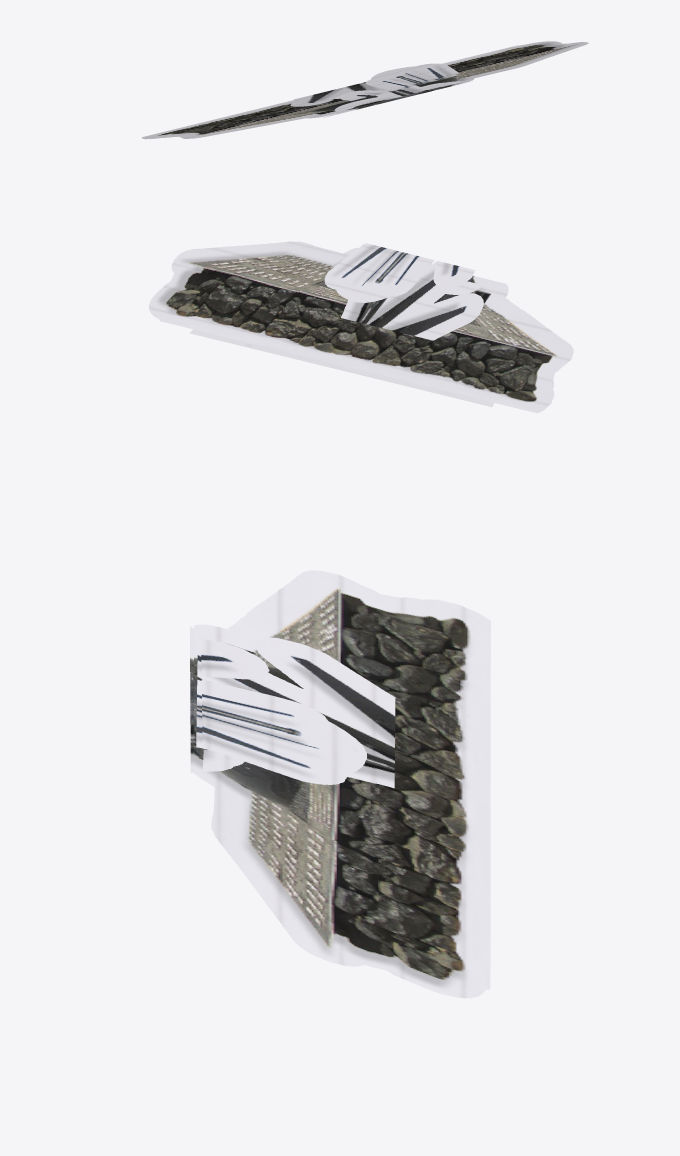
The model's file is Har_shipon_memo_.FBX.
3 renders of one model, top to bottom at view 1: azimuth 30°, elevation 25°; view 2: azimuth 150°, elevation 25°; view 3: azimuth 270°, elevation 25°, orthographic. The views are drawn at different scales.
Parts seen in each view (by area): view 1: Object048, Object045, Object047, Object046, Object049; view 2: Object048, Object046, Object045, Object049, Object050; view 3: Object048, Object045, Object046, Object049, Object047.
Part boxes in pixels (left/top/right/bottom): Object048: left=142, top=41, right=588, bottom=139; Object045: left=339, top=63, right=459, bottom=100; Object047: left=323, top=81, right=472, bottom=117; Object046: left=290, top=74, right=460, bottom=106; Object049: left=143, top=45, right=518, bottom=136; Object048: left=149, top=241, right=573, bottom=413; Object046: left=340, top=243, right=483, bottom=340; Object045: left=324, top=244, right=474, bottom=302; Object049: left=160, top=320, right=536, bottom=412; Object050: left=189, top=329, right=493, bottom=407; Object048: left=193, top=570, right=490, bottom=998; Object045: left=201, top=639, right=366, bottom=784; Object046: left=196, top=637, right=395, bottom=788; Object049: left=472, top=621, right=490, bottom=987; Object047: left=190, top=626, right=393, bottom=788.
Bounding box in the file's own units: 1.49 × 0.2997 × 0.1352.
